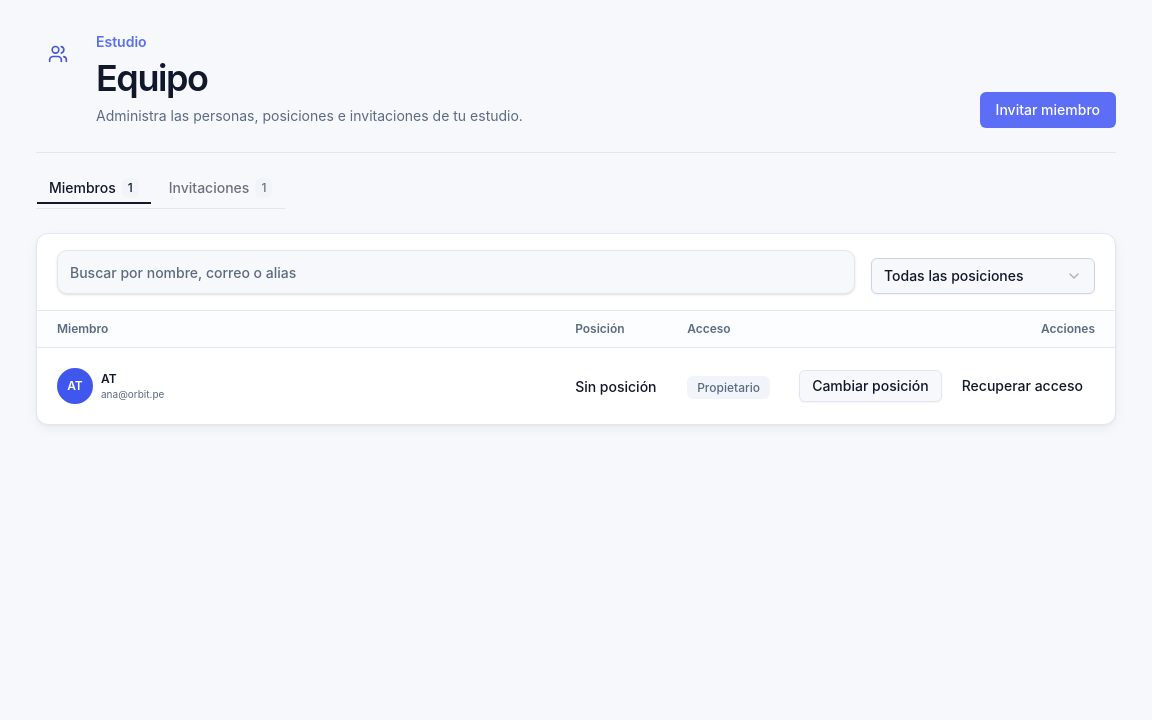
Test: TeamPage › gives owners member and invitation tabs plus an invitation sheet
Press the mouse on the tab "Invitaciones 1" at (221, 188), box [156, 176, 285, 200]
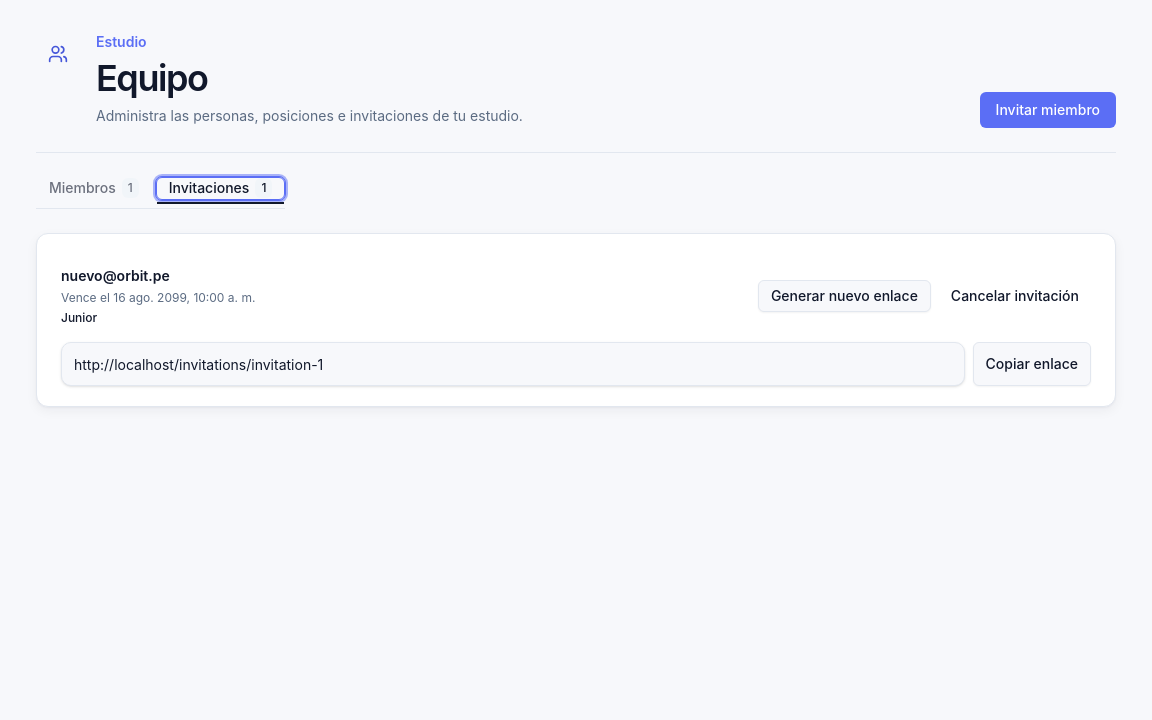
Expected: the text "nuevo@orbit.pe" is shown, [61, 267, 170, 284]
Click the button "Invitar miembro".
click(1048, 110)  # box [980, 92, 1116, 128]
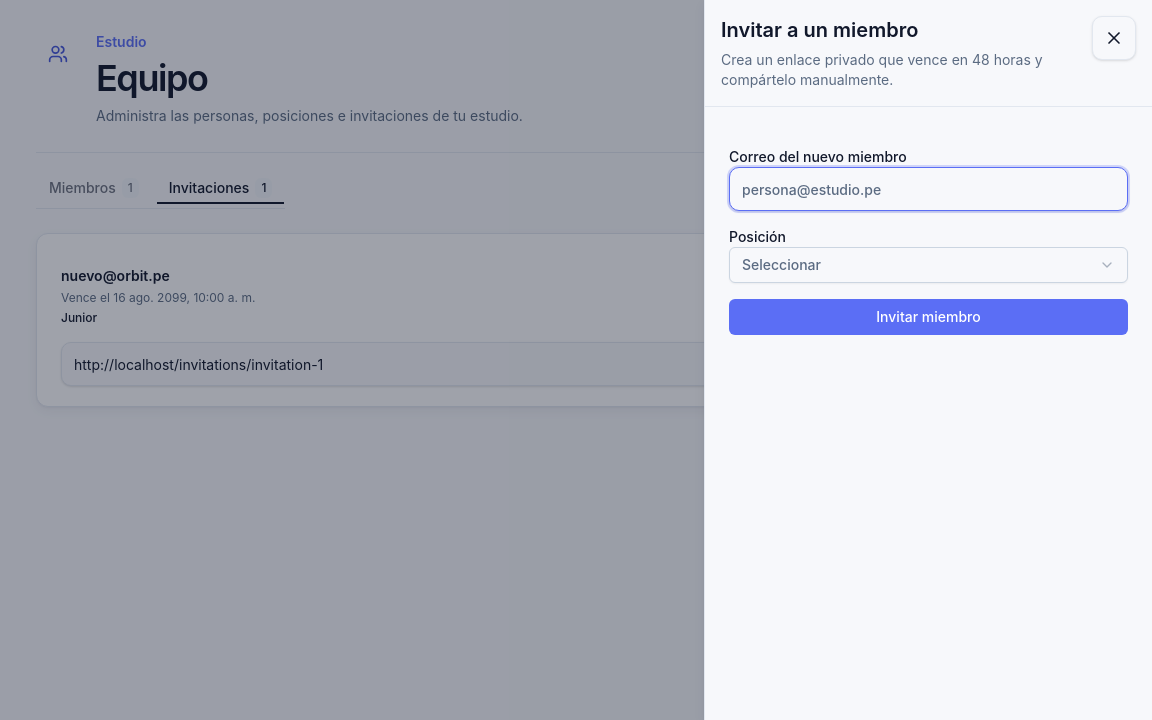
Expected: the dialog "Invitar a un miembro" is shown, [704, 0, 1151, 719]
Expected: the field labelled "Correo del nuevo miembro" is shown, [729, 167, 1128, 211]
